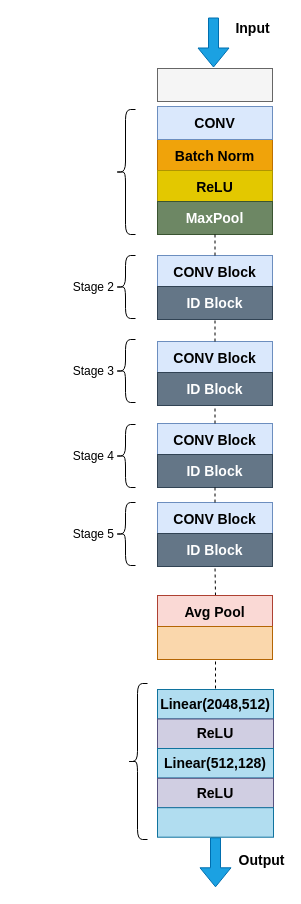
Image size: 301x904. Some labels were removed from this diagram. The box of each missing label's shape, as (x1, y1, x2, y2) in pixels:
FC layer Adjustment: (126, 682, 148, 840)
Flattening: (156, 626, 272, 660)
Linear(128,1): (156, 807, 274, 837)
Stage 1: (114, 108, 136, 234)
Zero Padding: (156, 68, 272, 102)
